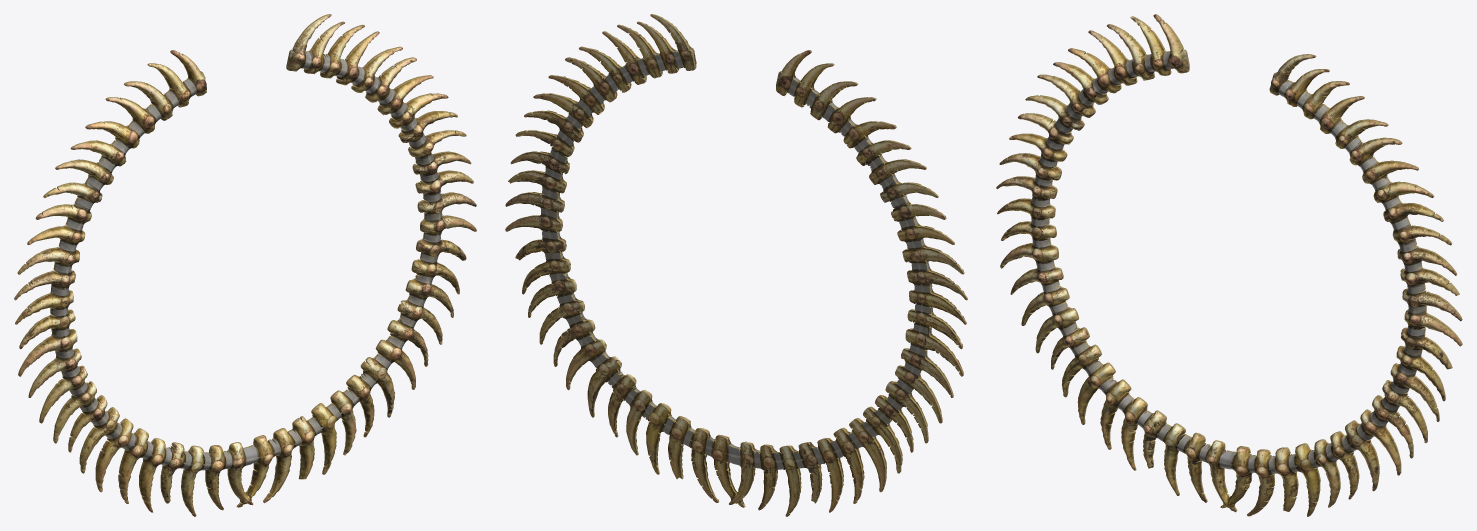
The model's file is collar.glb.
3 renders of one model, left to right at view 1: azimuth 30°, elevation 25°; view 2: azimuth 150°, elevation 25°; view 3: azimuth 330°, elevation 25°, orthographic.
Parts seen in each view (by area): view 1: collar; view 2: collar; view 3: collar.
Part boxes in pixels (x1,y1,x2,y2): collar: (14,14,476,516); collar: (505,14,967,516); collar: (996,14,1462,516).
Size of the model in its own units: 9.82 by 9.64 by 0.2794.
Materials: 1 (1 with a texture image).
